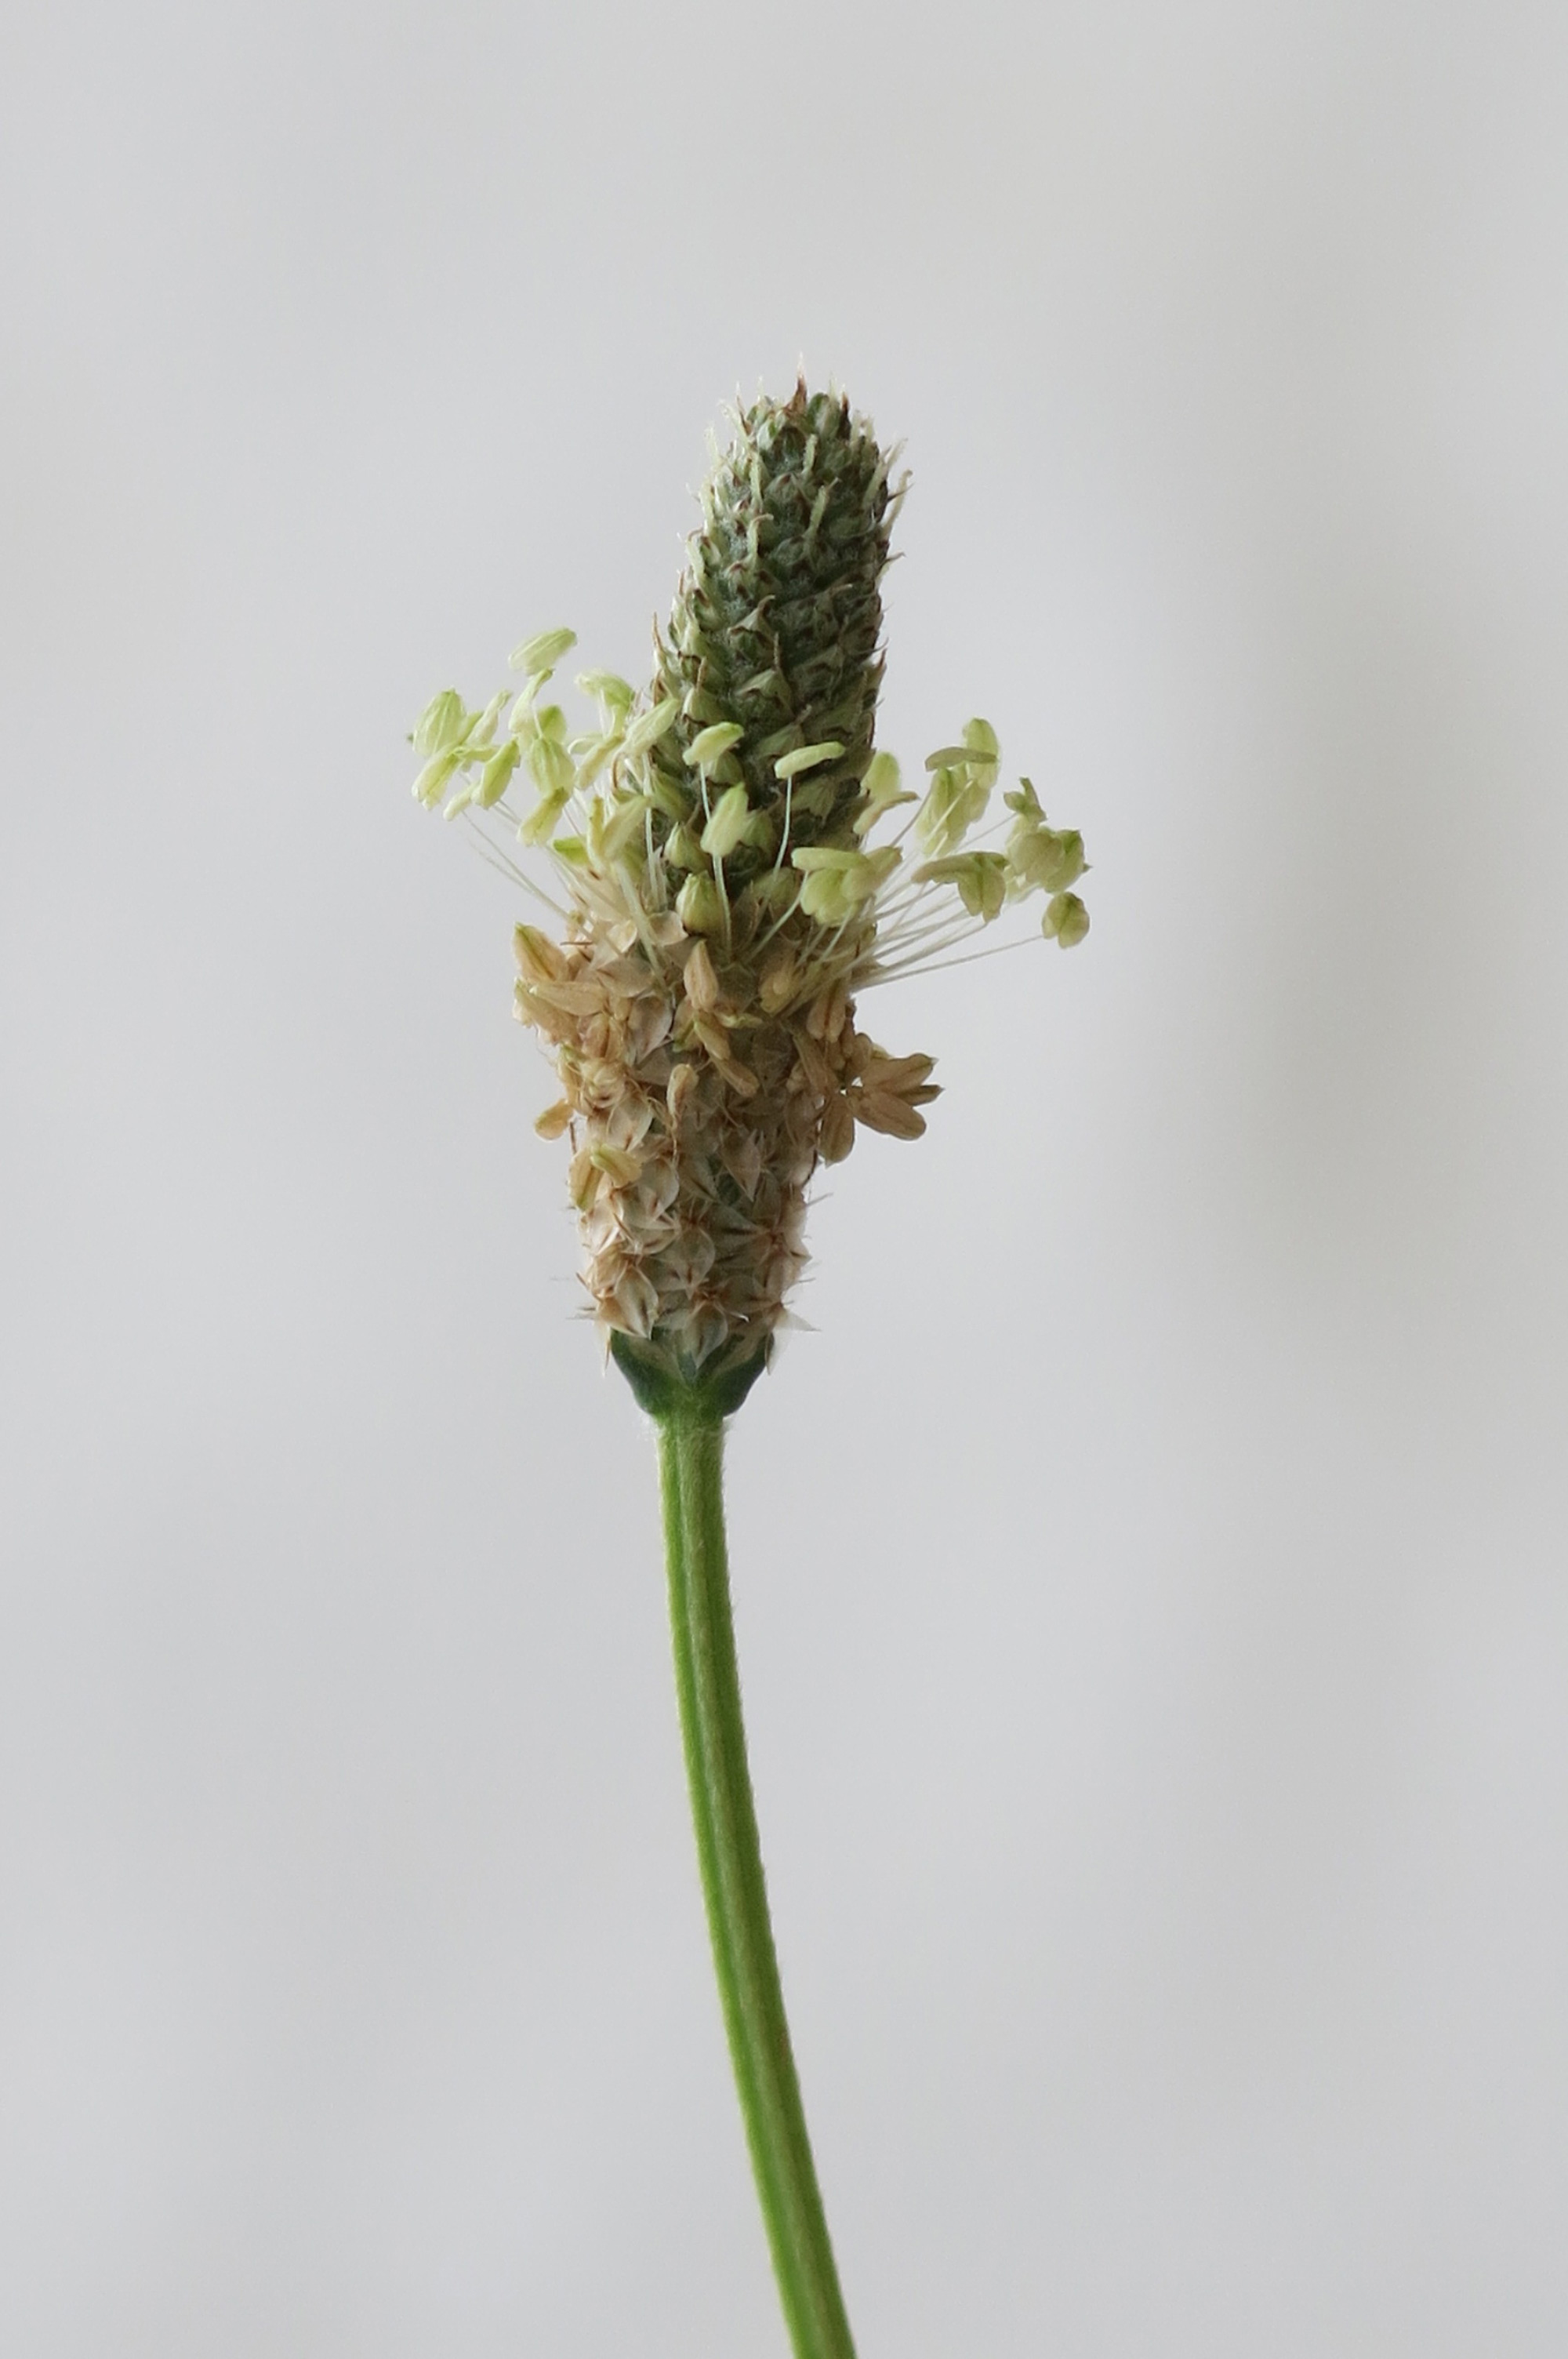buckhorn plantain: (376, 334, 1071, 2037)
